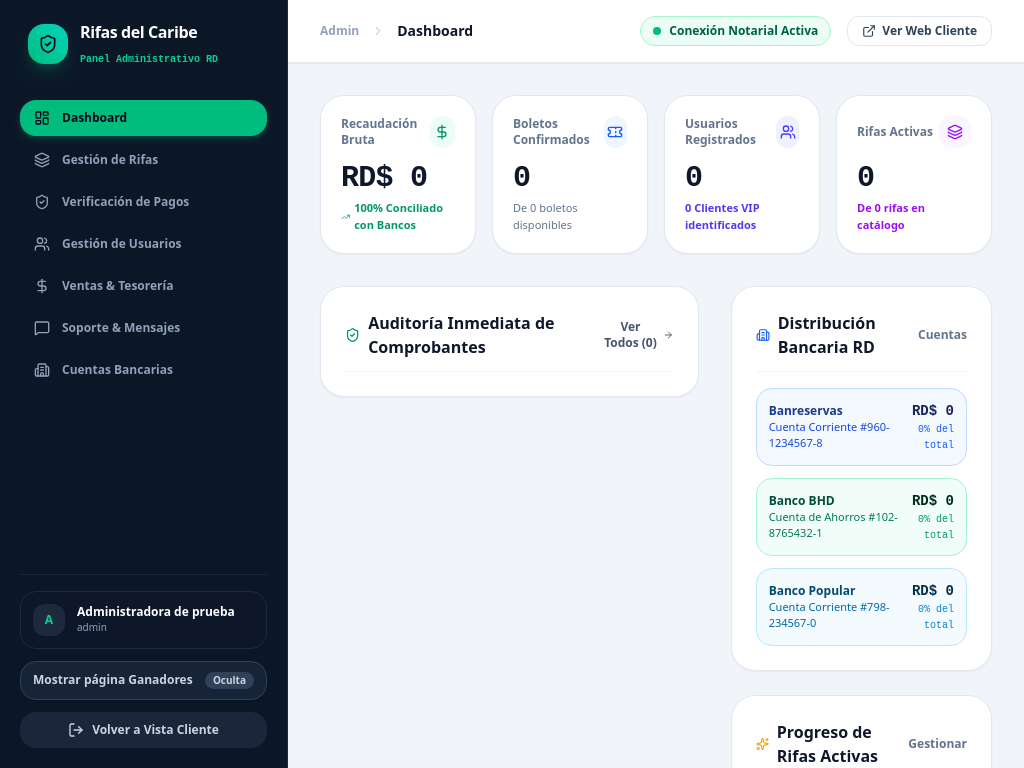
Test case: Acceso administrativo › actualiza la lista de usuarios que llega después de abrir el panel
Expected: the text "Panel Administrativo RD" is shown, [80,54,218,65]
Click the button "Gestión de Usuarios". click: [144, 244]
box: [20,226,267,262]
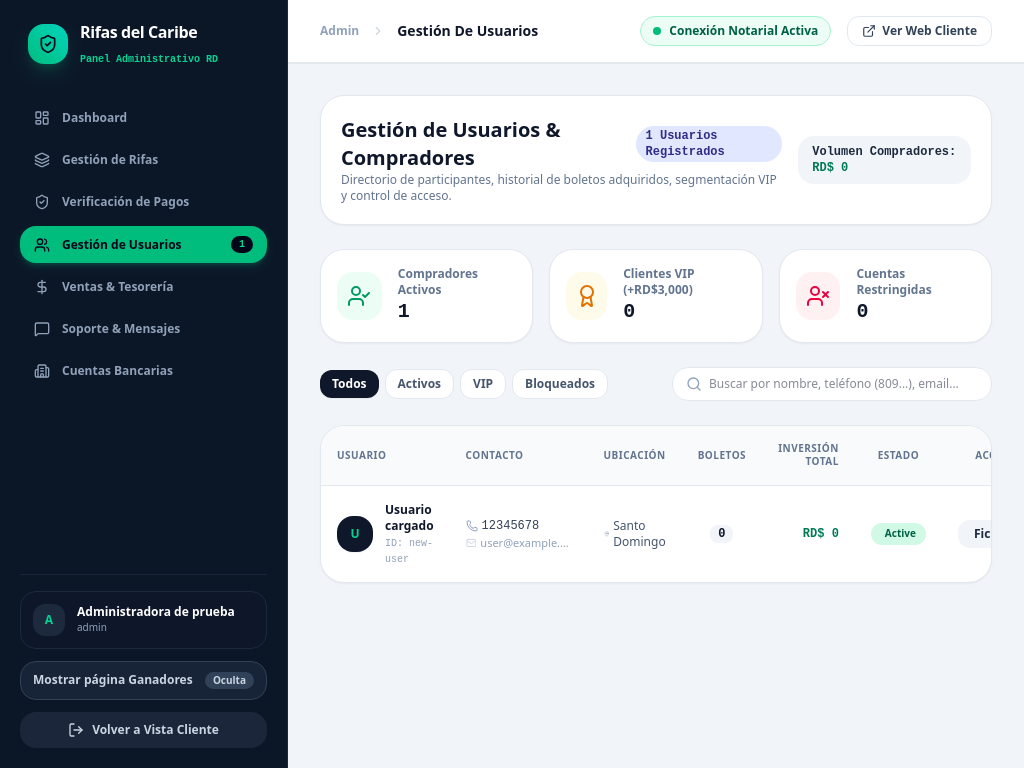
Now the text "Usuario cargado" is shown, box [385,502,434,534]
